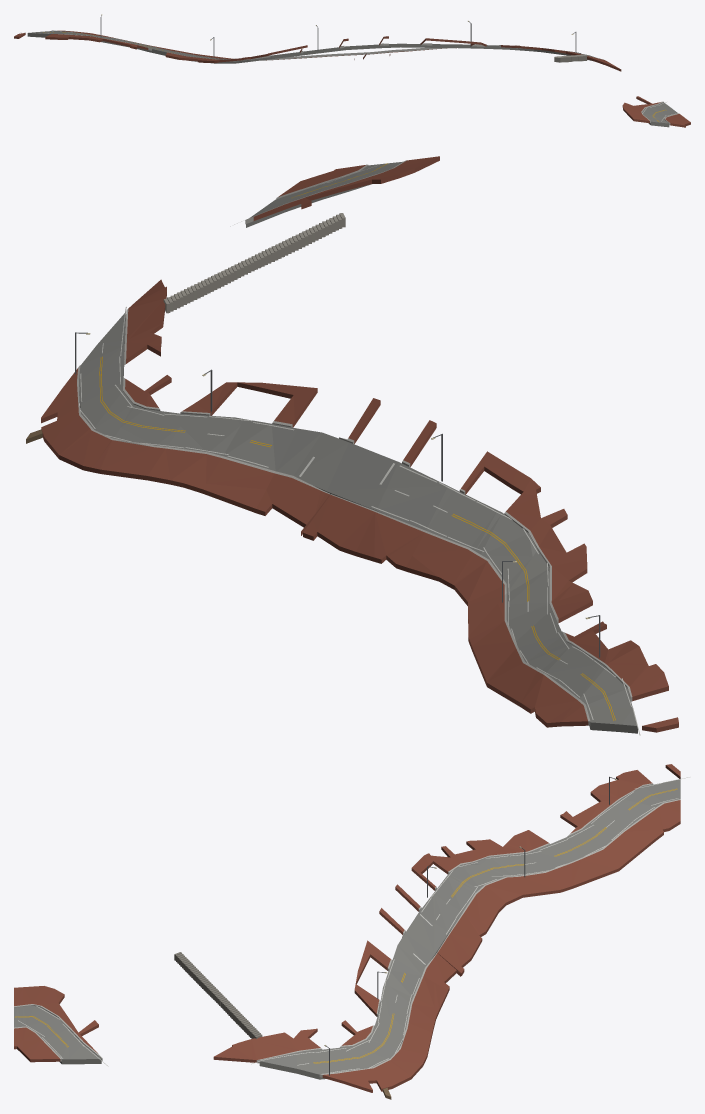
The model's file is 18-218891-118949.354fad8f.glb.
3 renders of one model, top to bottom at view 1: azimuth 30°, elevation 25°; view 2: azimuth 150°, elevation 25°; view 3: azimuth 270°, elevation 25°, orthographic. The views are drawn at different scales.
Size of the model in its own units: 146 by 23.38 by 148.
